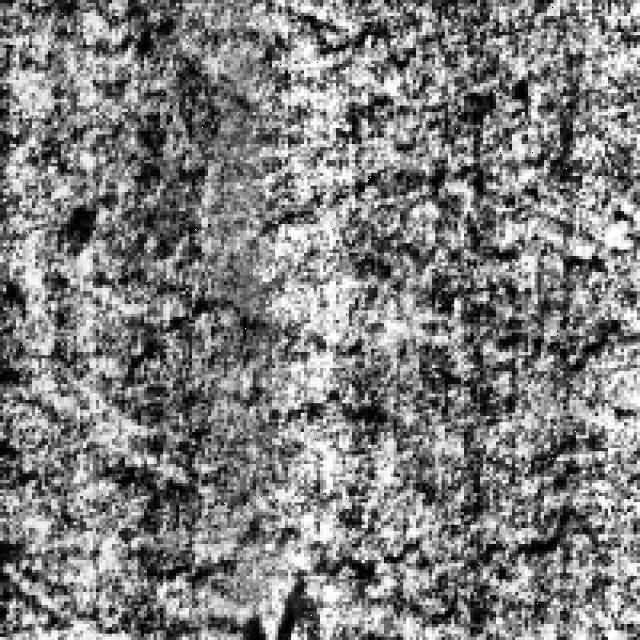Pitted_Surface: (16, 150, 637, 407), (115, 464, 579, 627)
